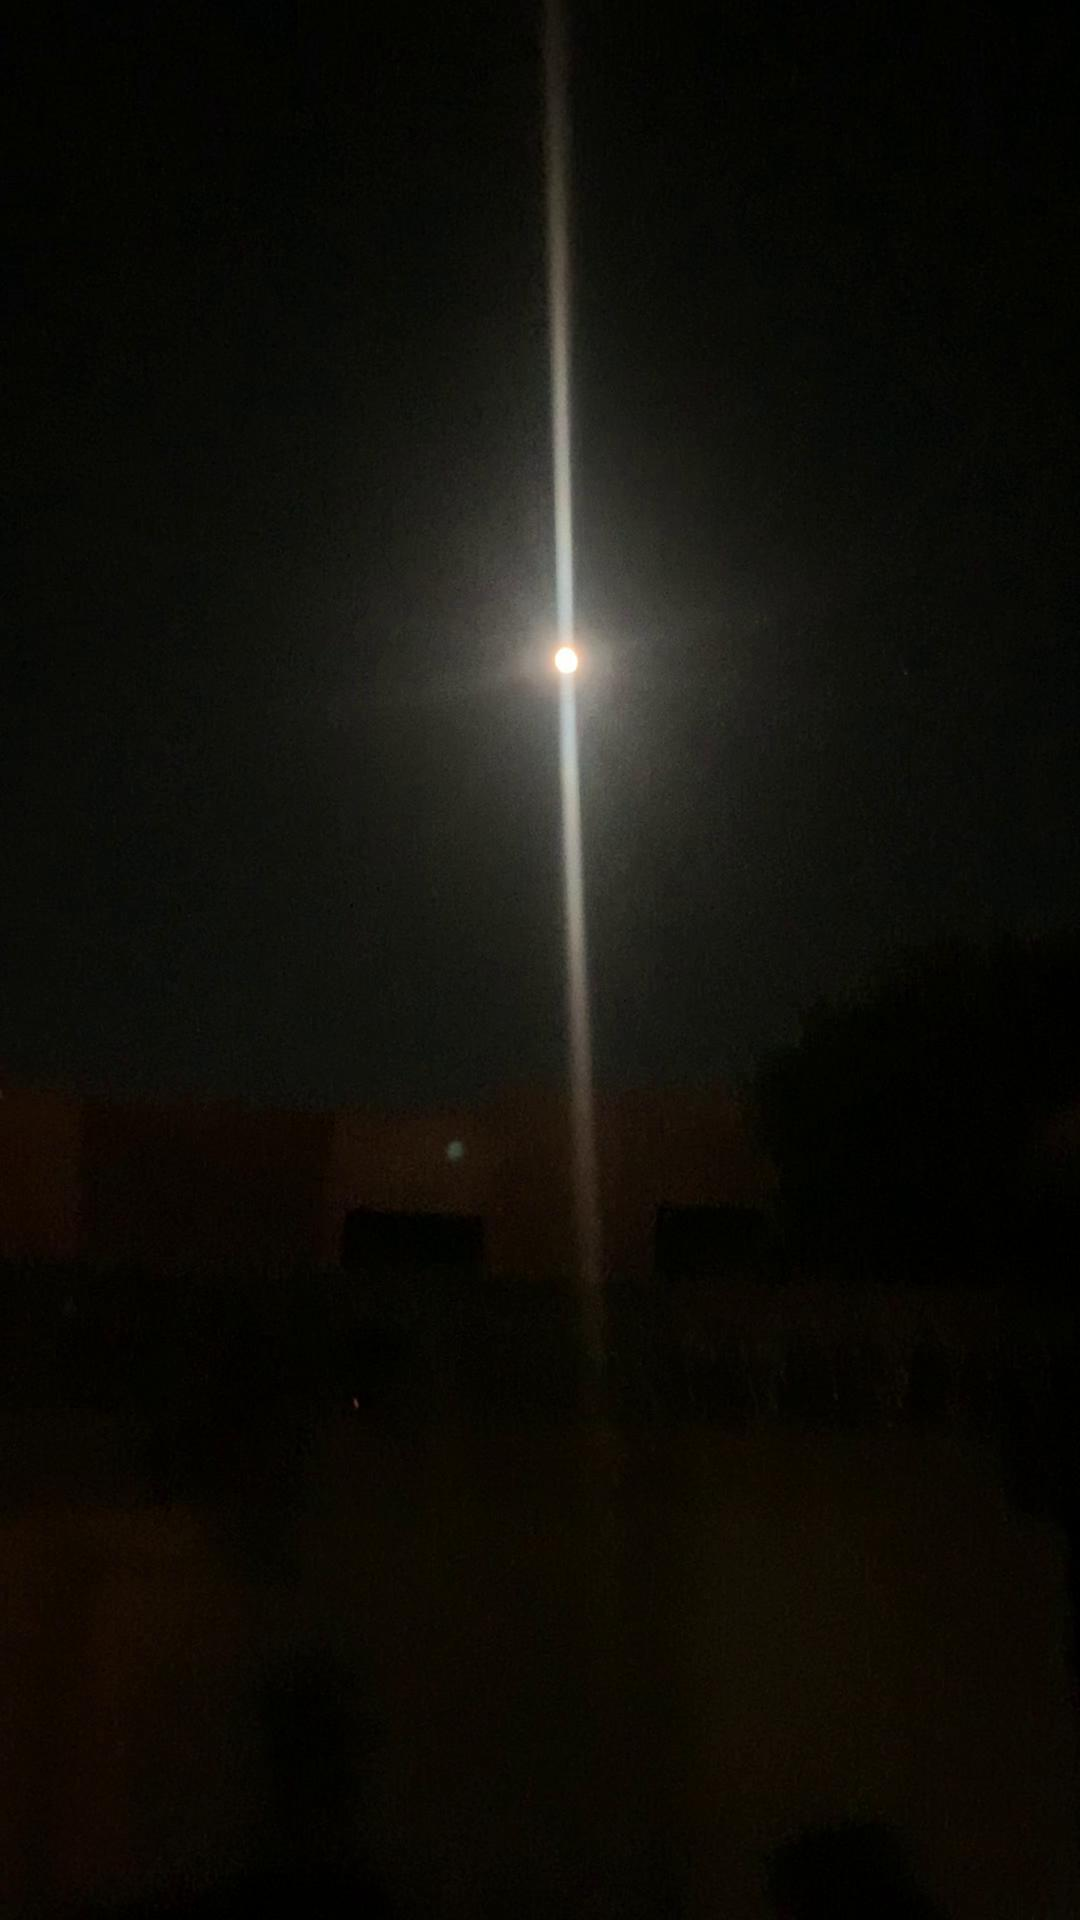moon: (543, 628, 618, 707)
